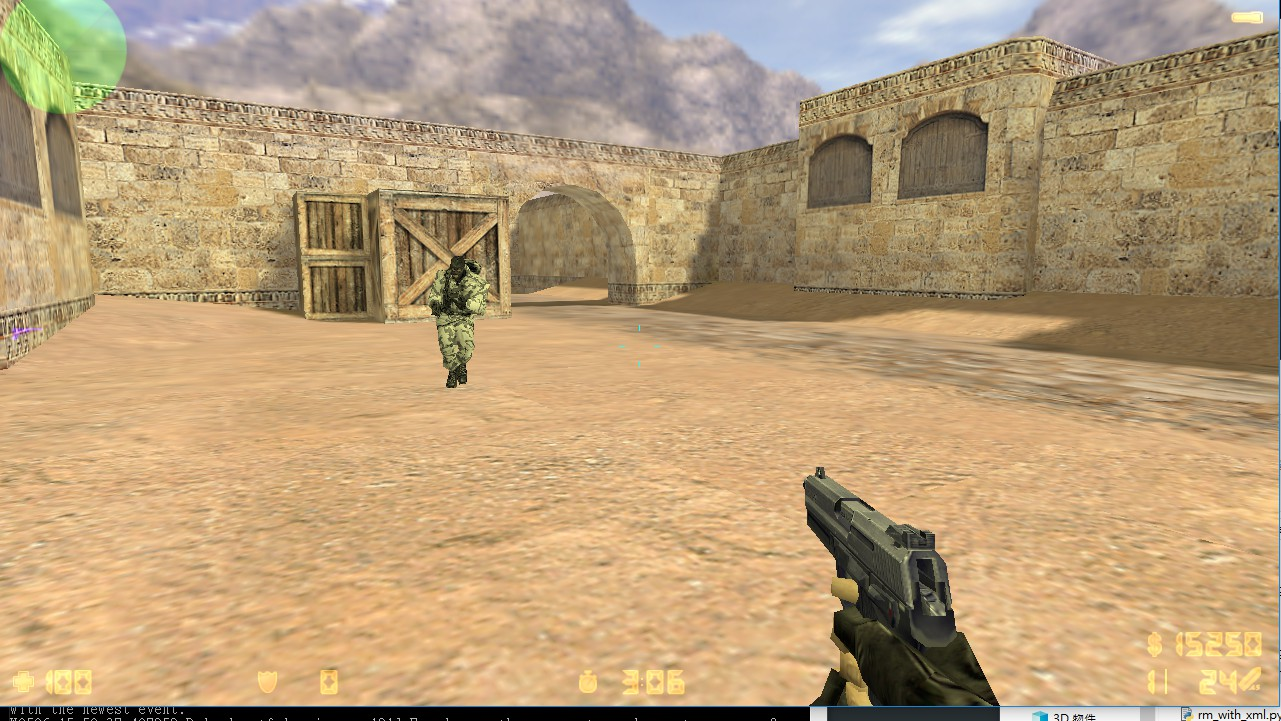person: (428, 248, 492, 398)
